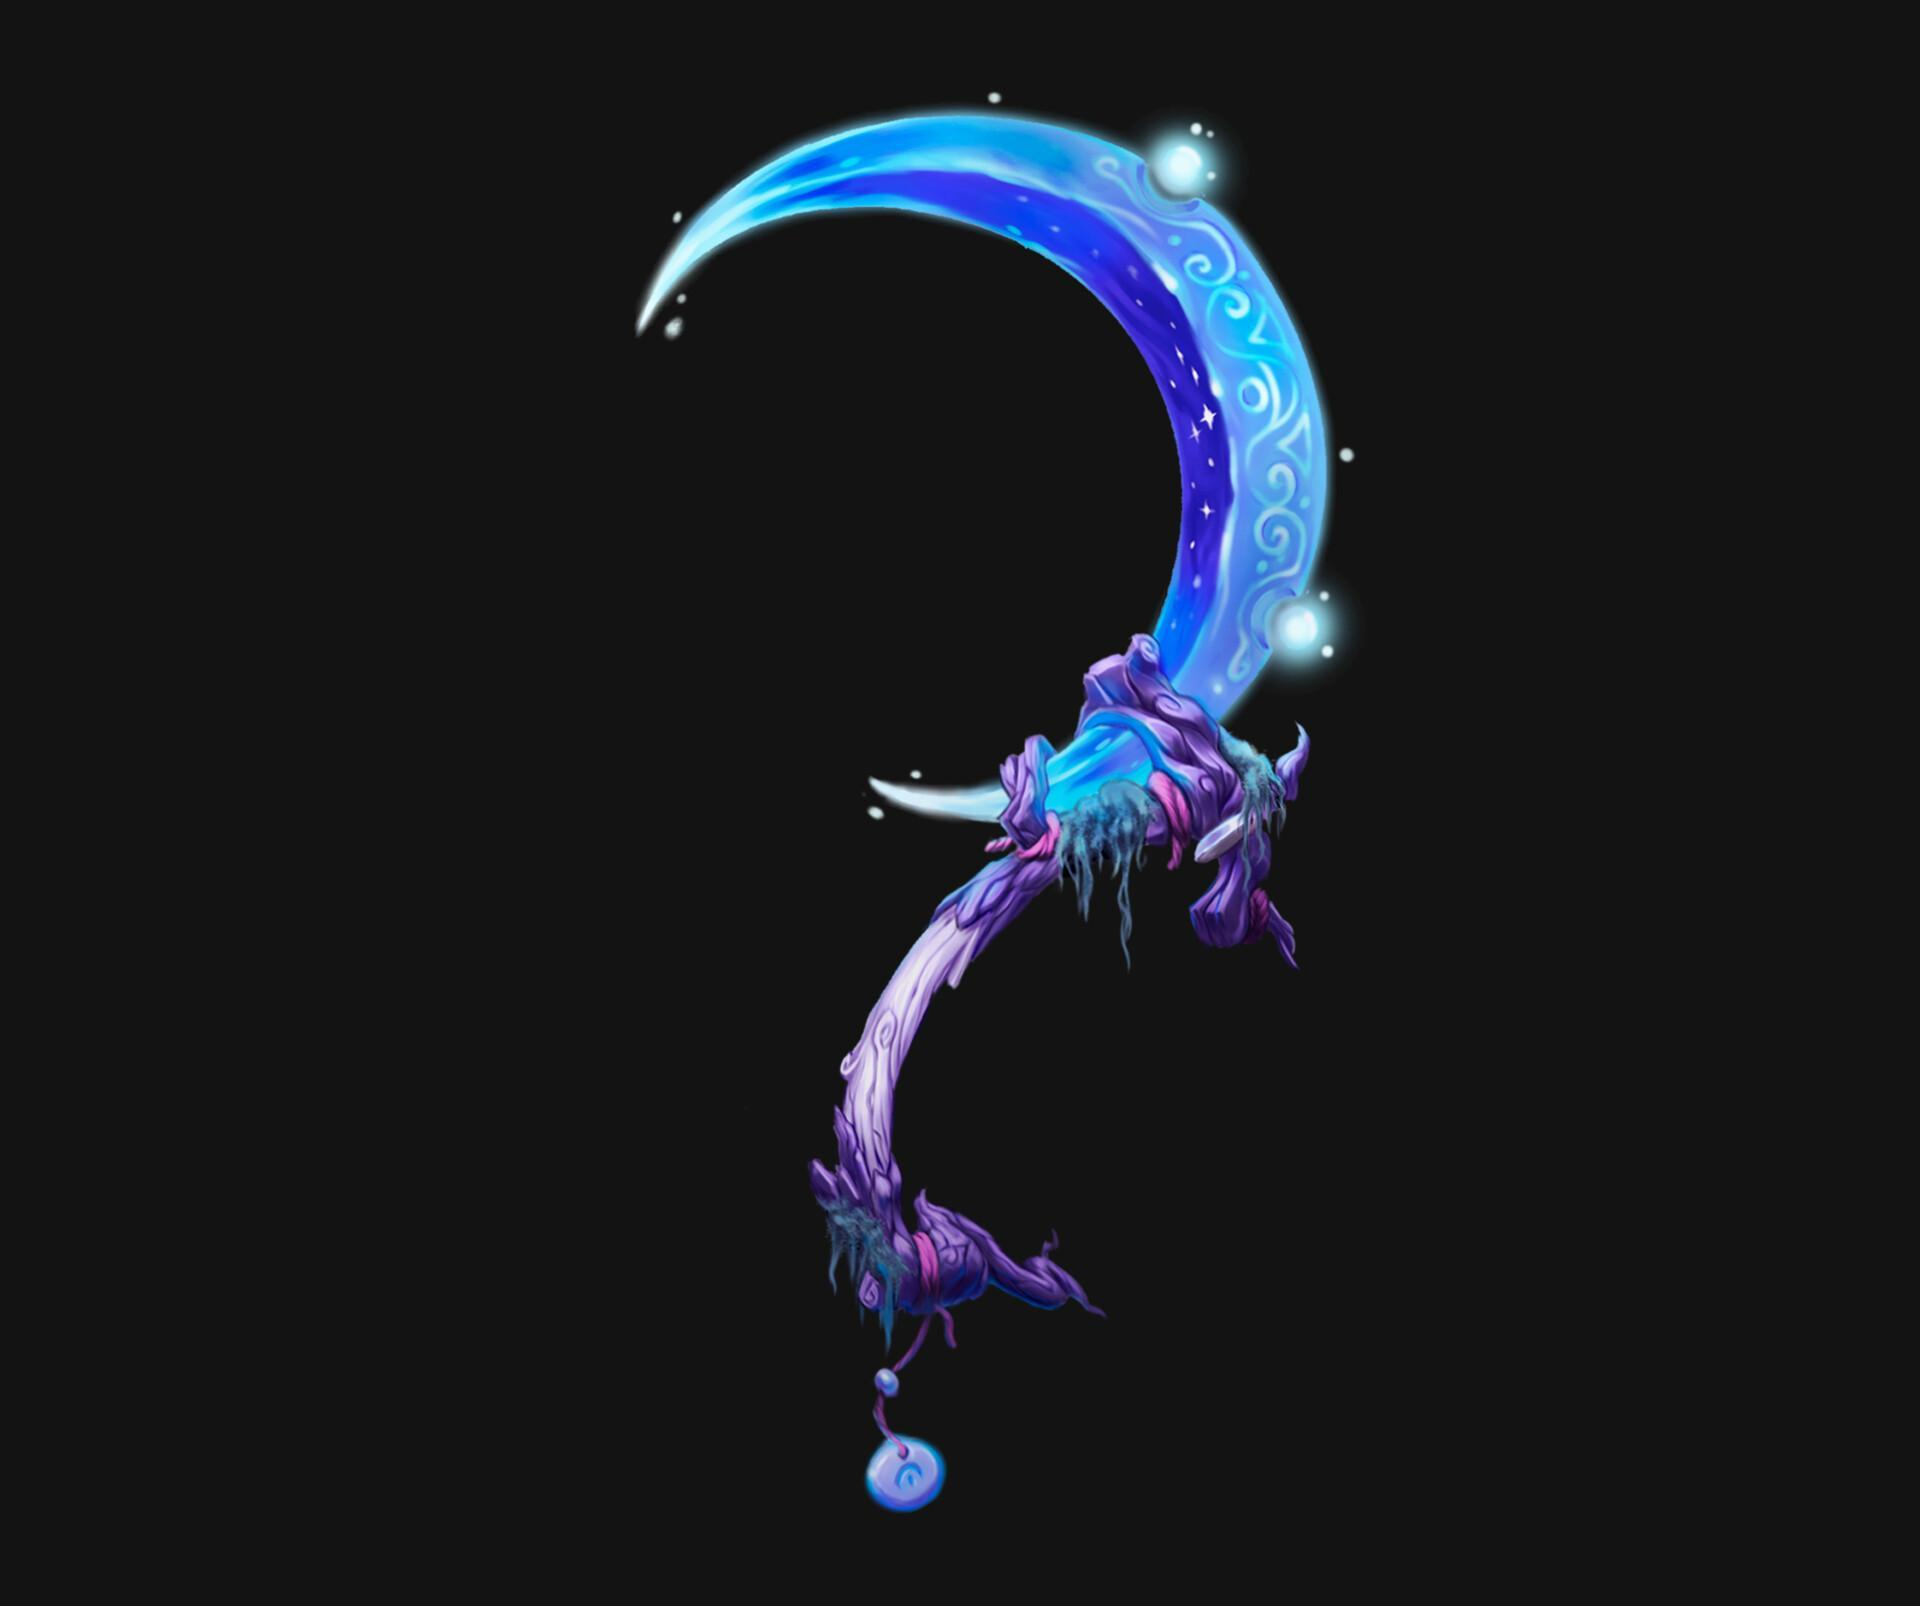foice: (636, 113, 1328, 1357)
